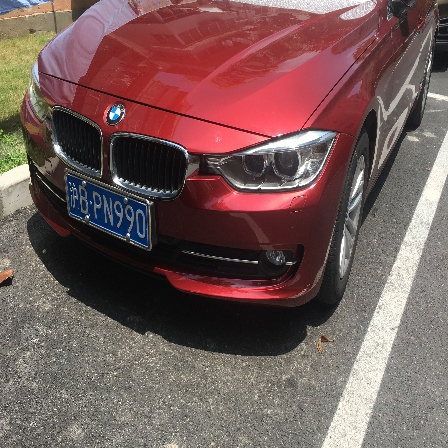plate: (61, 169, 158, 252)
